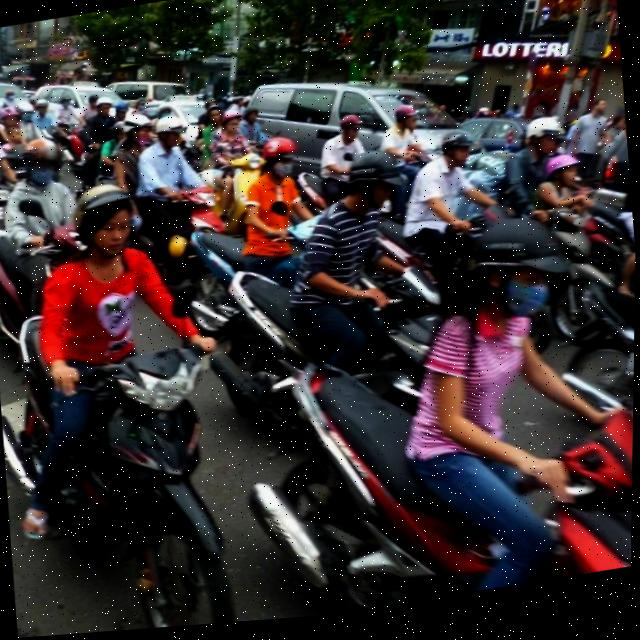motorcycle: (236, 315, 635, 622), (1, 326, 253, 639), (199, 233, 444, 450)
